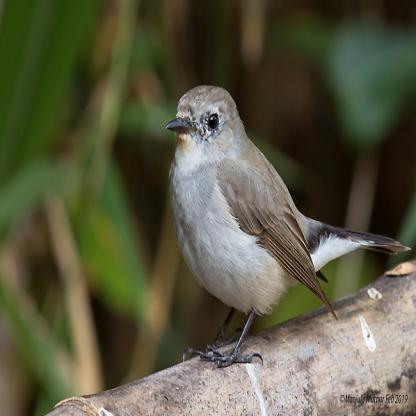Burung: (164, 79, 413, 358)
